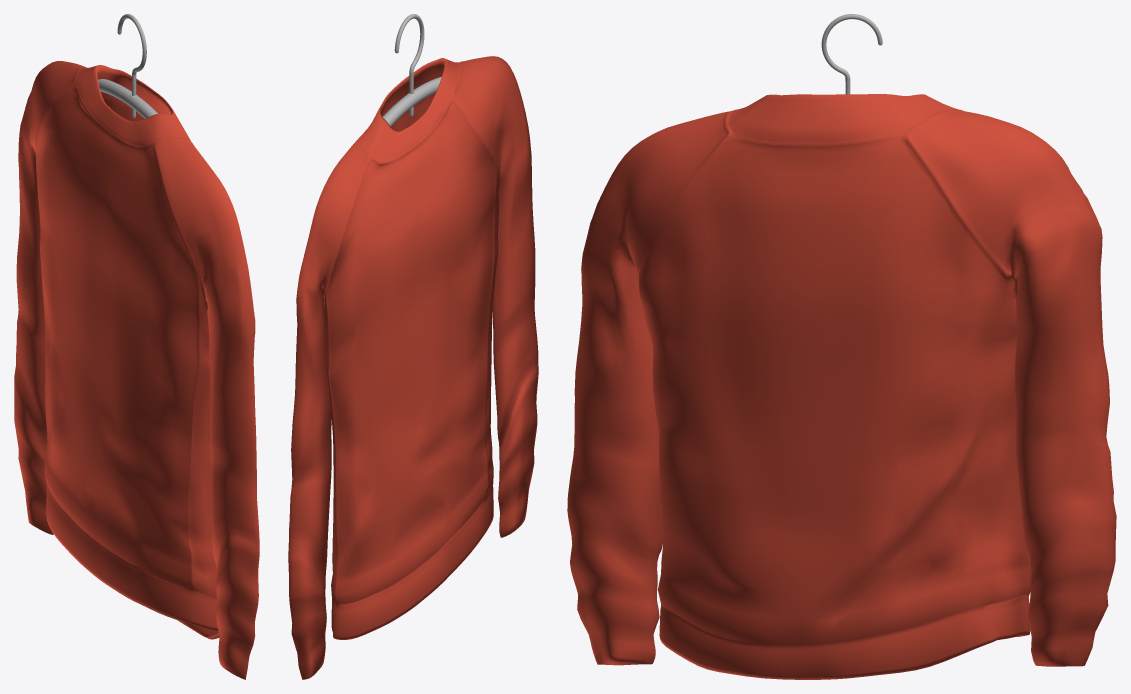
The model's file is redSweater.fbx.
The picture shows the model from 3 angles, left to right: view 1: azimuth 30°, elevation 25°; view 2: azimuth 150°, elevation 25°; view 3: azimuth 270°, elevation 25°; orthographic projection. The views are drawn at different scales.
Visible parts, largest first — view 1: Plane06, DTEC_Peng; view 2: Plane06, DTEC_Peng; view 3: Plane06, DTEC_Peng.
Part boxes in pixels (x1,y1,x2,y2): Plane06: (14,61,259,679); DTEC_Peng: (98,14,157,118); Plane06: (288,56,538,679); DTEC_Peng: (382,14,441,126); Plane06: (567,94,1116,679); DTEC_Peng: (821,14,882,94).
Bounding box in the file's own units: 5.43 × 88.42 × 66.99.
